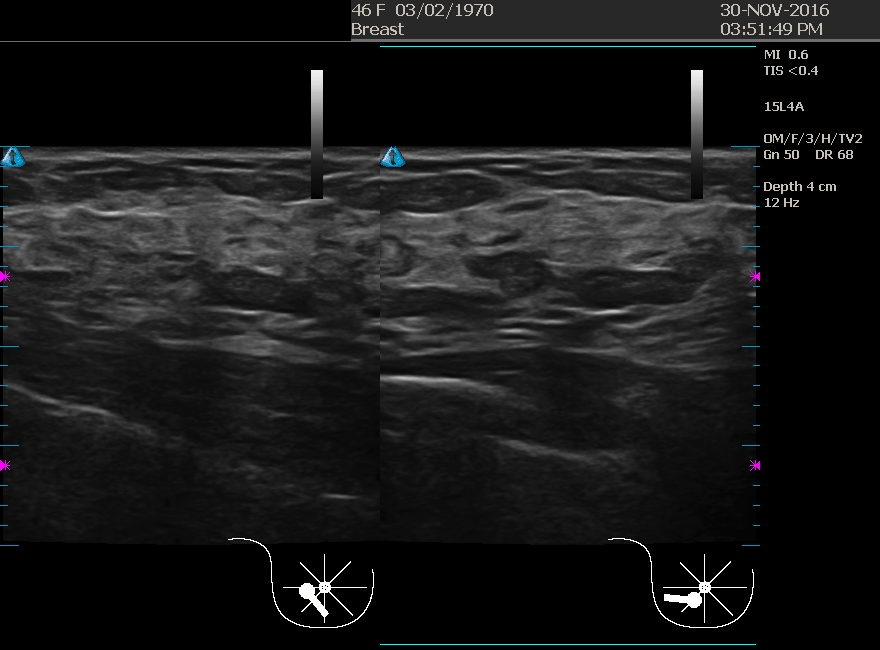BIRADS_3: (173, 248, 373, 448), (508, 248, 708, 448)
